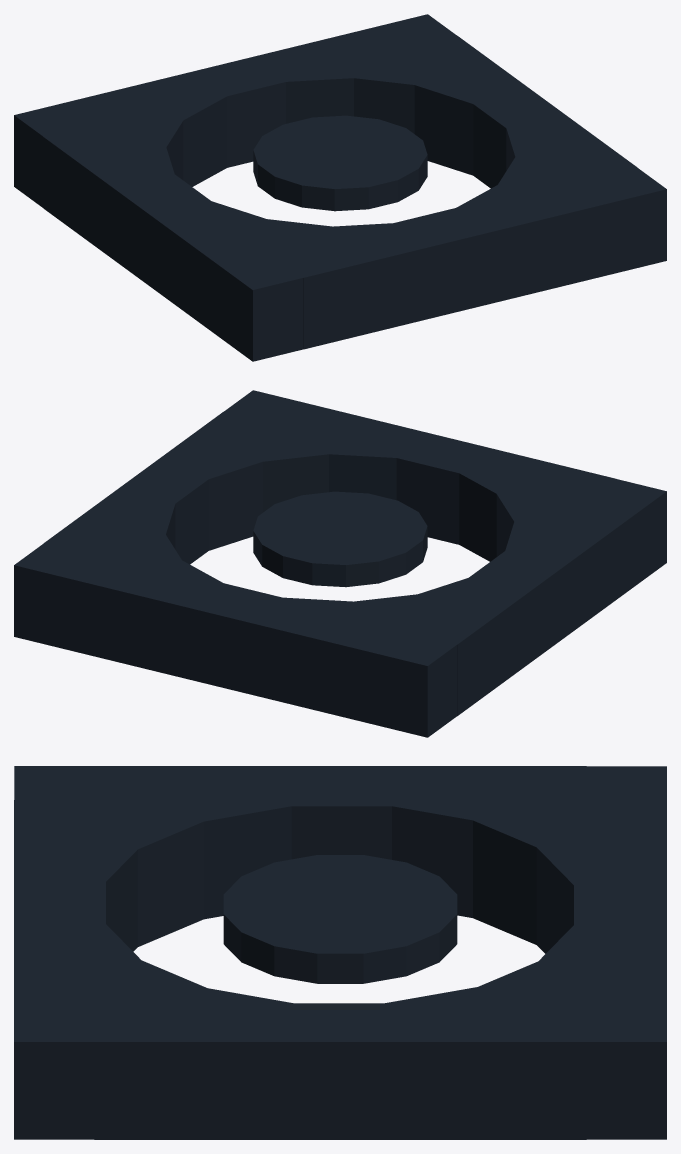
Rendered from clu_stairs_fill.obj.
3 views of the same model, one above another, from view 1: azimuth 30°, elevation 25°; view 2: azimuth 150°, elevation 25°; view 3: azimuth 270°, elevation 25° (orthographic). The views are drawn at different scales.
Parts seen in each view (by area): view 1: hexadecagon.014, hexadecagon.018, hexadecagon.009, hexadecagon.021, hexadecagon.007, hexadecagon.022, hexadecagon.010, hexadecagon.008, hexadecagon.011, hexadecagon.016, hexadecagon, hexadecagon.012 (+12 smaller); view 2: hexadecagon.009, hexadecagon.018, hexadecagon.014, hexadecagon.021, hexadecagon.020, hexadecagon.016, hexadecagon.013, hexadecagon.015, hexadecagon.011, hexadecagon.012, hexadecagon.001, hexadecagon.022 (+12 smaller); view 3: hexadecagon.021, hexadecagon.009, hexadecagon.014, hexadecagon.018, hexadecagon.012, hexadecagon.011, hexadecagon.017, hexadecagon.019, hexadecagon.010, hexadecagon.013, hexadecagon.007, hexadecagon.016 (+12 smaller).
Part boxes in pixels (x1,y1,x2,y2): hexadecagon.014: [270, 168, 666, 349]; hexadecagon.018: [43, 122, 312, 361]; hexadecagon.009: [14, 14, 460, 207]; hexadecagon.021: [400, 35, 637, 188]; hexadecagon.007: [339, 39, 453, 133]; hexadecagon.022: [407, 60, 522, 175]; hexadecagon.010: [122, 75, 233, 186]; hexadecagon.008: [262, 49, 364, 123]; hexadecagon.011: [80, 104, 183, 179]; hexadecagon.016: [498, 151, 607, 200]; hexadecagon: [302, 115, 378, 211]; hexadecagon.012: [227, 217, 341, 263]; hexadecagon.009: [14, 540, 461, 737]; hexadecagon.018: [429, 477, 666, 716]; hexadecagon.014: [220, 390, 615, 544]; hexadecagon.021: [44, 412, 269, 564]; hexadecagon.020: [159, 436, 272, 550]; hexadecagon.016: [226, 415, 341, 512]; hexadecagon.013: [449, 451, 558, 561]; hexadecagon.015: [316, 426, 418, 500]; hexadecagon.011: [339, 593, 454, 641]; hexadecagon.012: [494, 480, 602, 556]; hexadecagon.001: [283, 493, 397, 584]; hexadecagon.022: [98, 495, 176, 548]; hexadecagon.021: [94, 1003, 586, 1139]; hexadecagon.009: [574, 766, 666, 1139]; hexadecagon.014: [14, 800, 105, 1139]; hexadecagon.018: [14, 766, 586, 859]; hexadecagon.012: [45, 779, 219, 946]; hexadecagon.011: [460, 776, 639, 944]; hexadecagon.017: [370, 766, 524, 917]; hexadecagon.019: [157, 767, 310, 919]; hexadecagon.010: [531, 826, 665, 953]; hexadecagon.013: [14, 826, 144, 951]; hexadecagon.007: [462, 955, 640, 1030]; hexadecagon.016: [40, 957, 219, 1030].
Bounding box in the file's own units: 4.99 × 0.8251 × 4.99.
